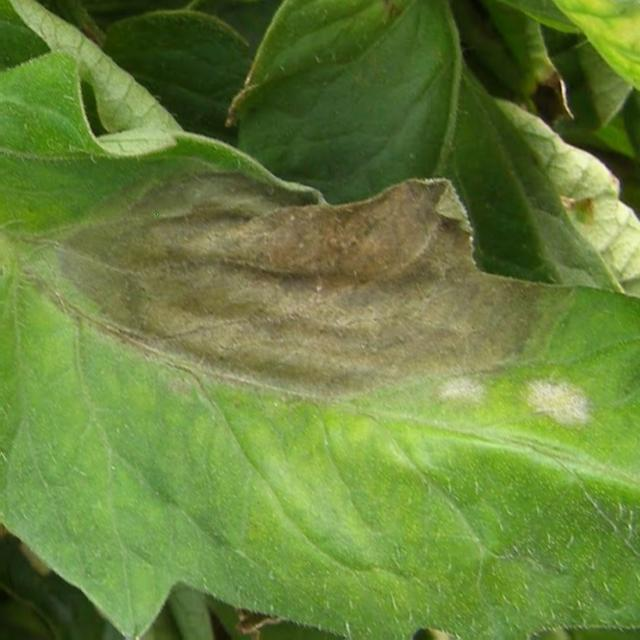Tomato mold leaf: (0, 56, 640, 640)
